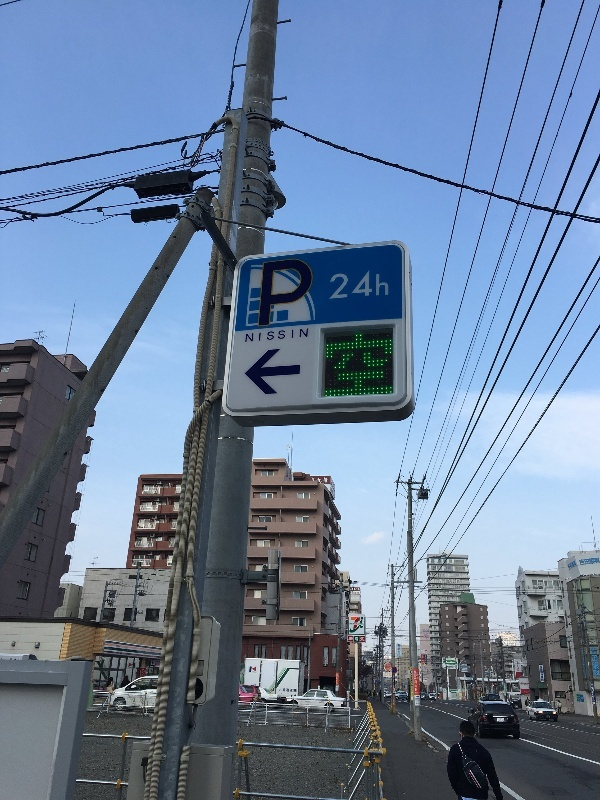text: (273, 258, 288, 327), (289, 258, 304, 327), (337, 332, 352, 397), (353, 332, 368, 397), (369, 332, 384, 397), (263, 258, 272, 327), (327, 332, 336, 397), (305, 258, 313, 327), (385, 332, 393, 397), (337, 269, 352, 300), (353, 269, 368, 300), (369, 269, 384, 300), (580, 648, 592, 677), (257, 328, 272, 343), (273, 328, 288, 343), (289, 328, 304, 343), (593, 648, 600, 680), (353, 616, 364, 634), (331, 269, 336, 300), (246, 328, 256, 343), (385, 269, 389, 300), (517, 661, 528, 672), (422, 654, 432, 665), (417, 671, 420, 693), (590, 648, 592, 680), (426, 655, 432, 665), (312, 477, 320, 484), (321, 477, 329, 484), (355, 637, 368, 641), (412, 673, 416, 686), (305, 328, 308, 343), (414, 671, 416, 693), (360, 637, 368, 642), (280, 688, 288, 693), (289, 688, 297, 693), (350, 616, 352, 634), (542, 666, 544, 682), (349, 637, 352, 642), (521, 683, 528, 685), (353, 637, 354, 642)
